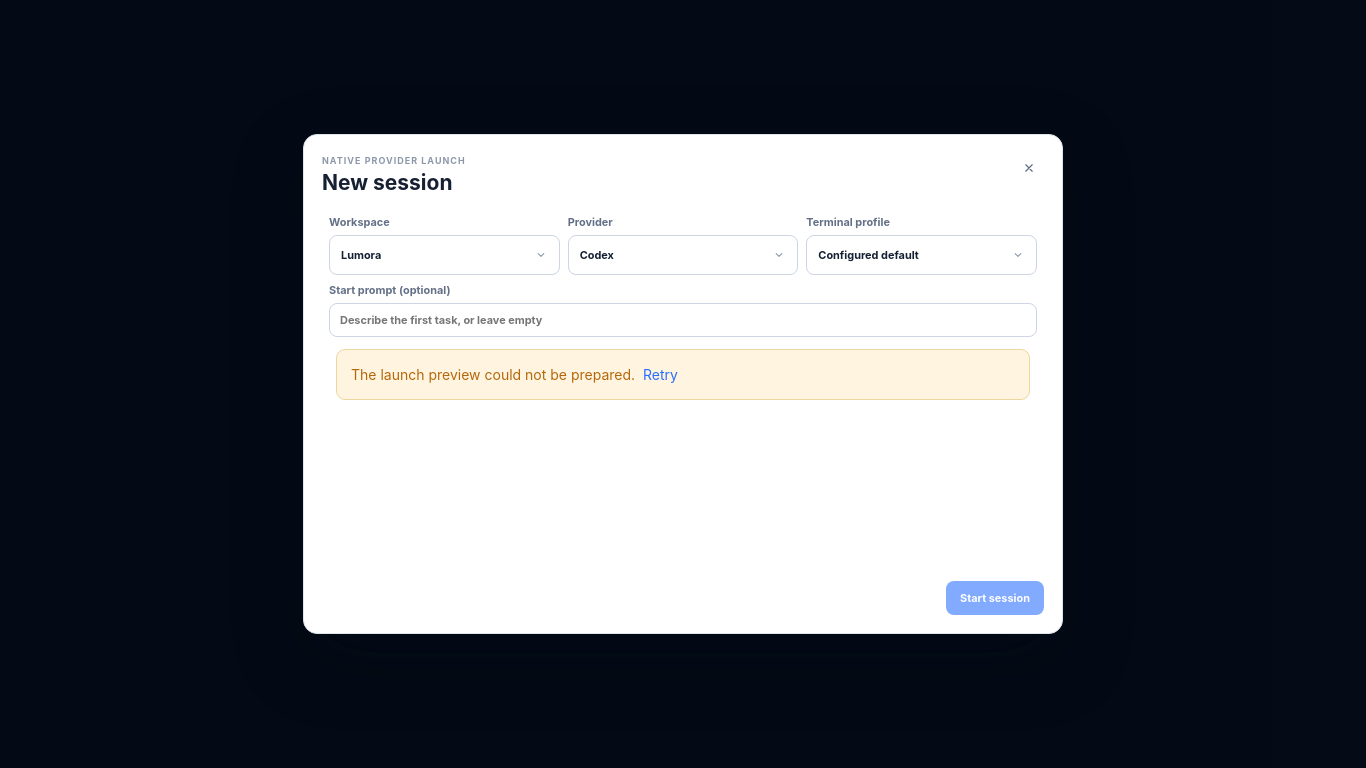
Test: NewSessionDialog › retries automatic preparation after an inline failure
Expected: the message shows "The launch preview could not be prepared.", [351,366,635,383]
Click the button "Retry" at (660, 374), box [639,362,682,387]
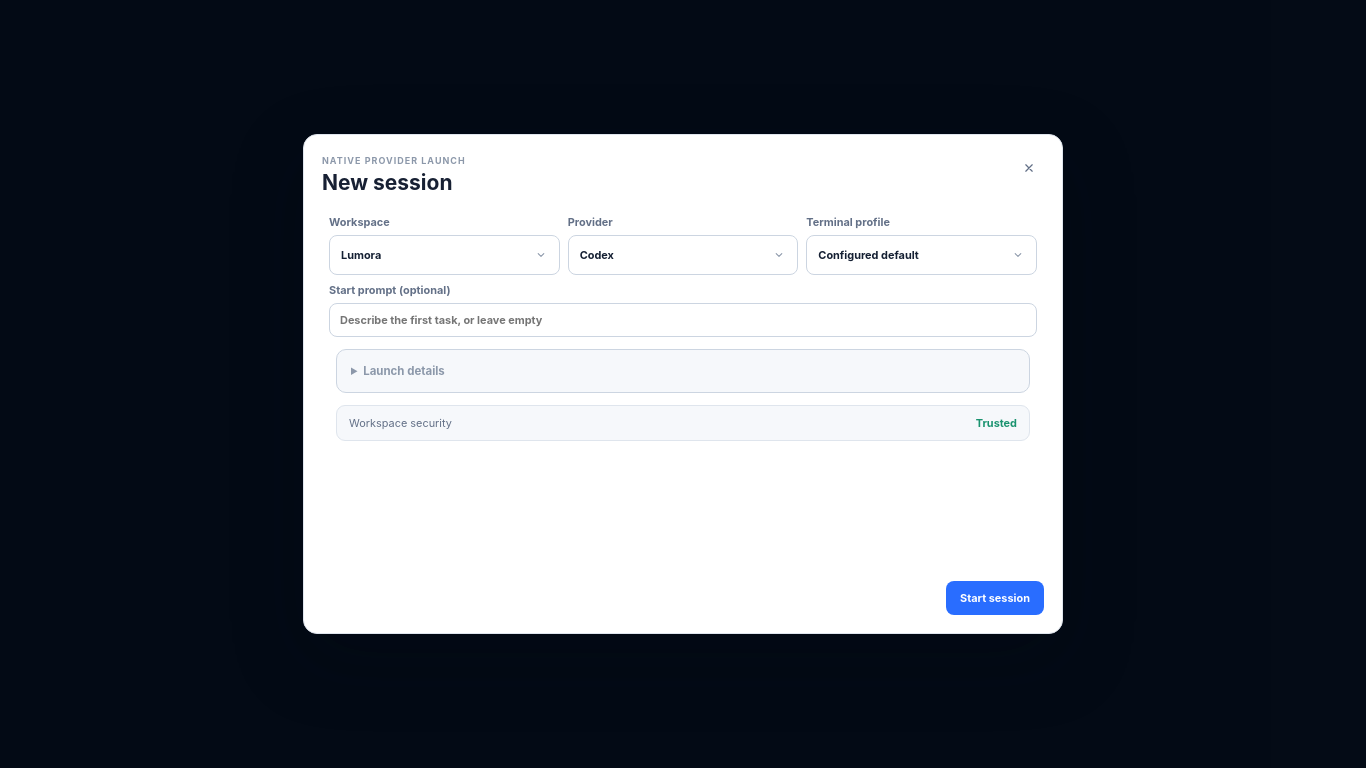
Expected: the button "Start session" is enabled, [946,581,1044,615]
